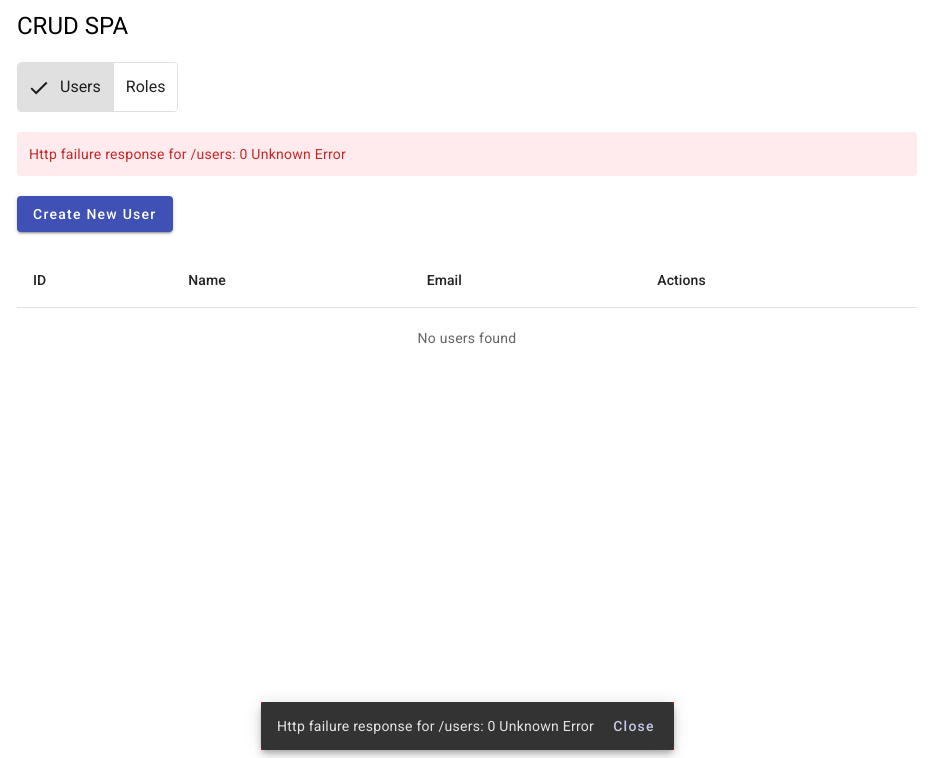
Scenario: Role CRUD SPA › US1: Navigation › should switch back to Users view when clicking Users toggle
Click the button "Roles".
click(146, 87)  # box [113,63,178,111]
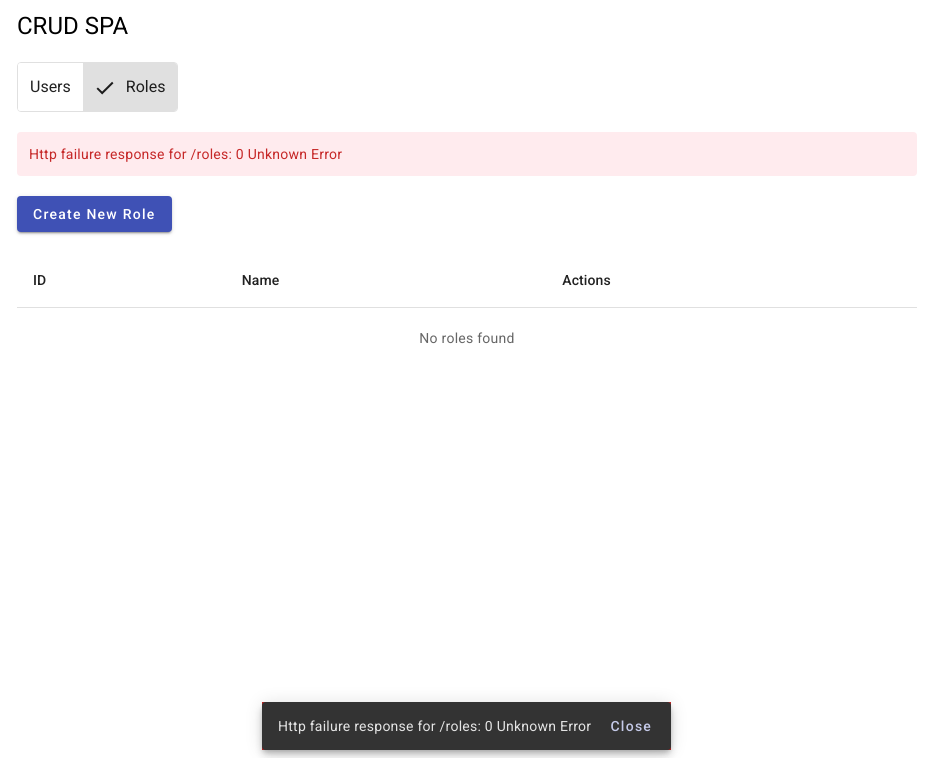
Check: the button "Create New Role" is shown, box [17,196,172,232]
Click the button "Users".
click(51, 87)  # box [18,63,83,111]
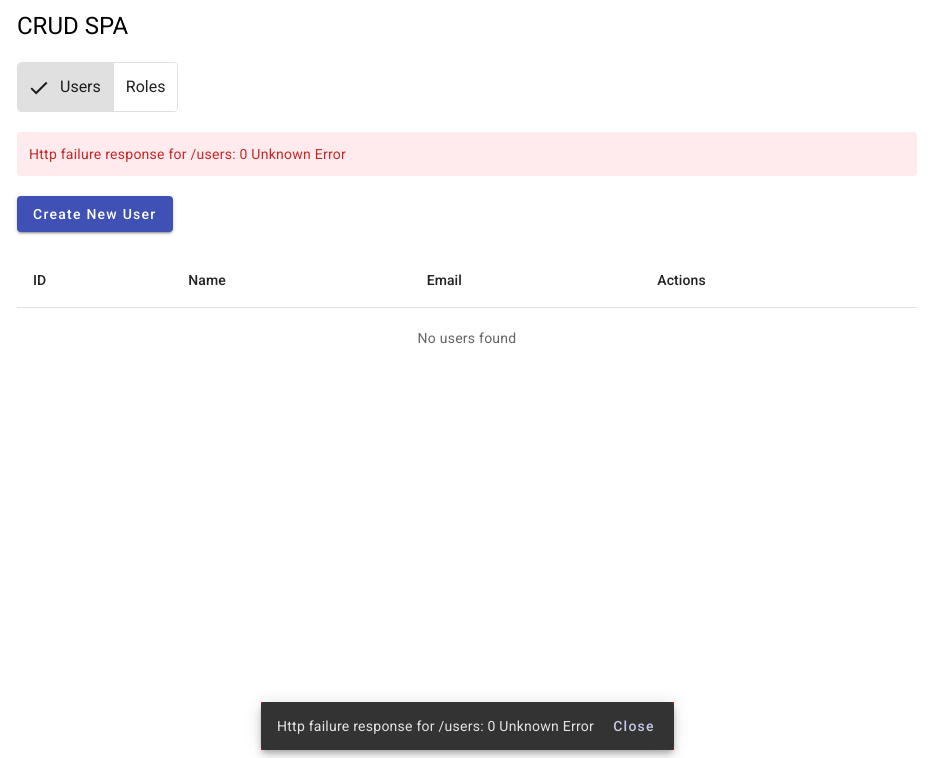
Check: the button "Create New User" is shown, box [17,196,172,232]
Check: the button "Create New Role" is gone
